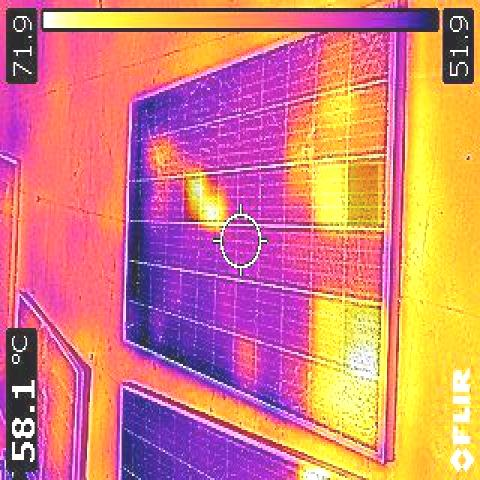fault: (343, 305, 381, 371), (348, 164, 378, 224), (313, 162, 341, 221), (202, 175, 218, 221), (184, 176, 200, 222)
